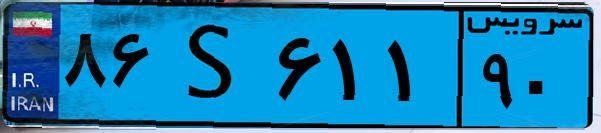0: (525, 38, 570, 115)
1: (385, 28, 445, 110), (330, 28, 385, 110)
6: (270, 28, 330, 110), (110, 28, 158, 98)
8: (57, 26, 110, 100)
9: (475, 38, 525, 113)
S: (158, 12, 270, 120)
